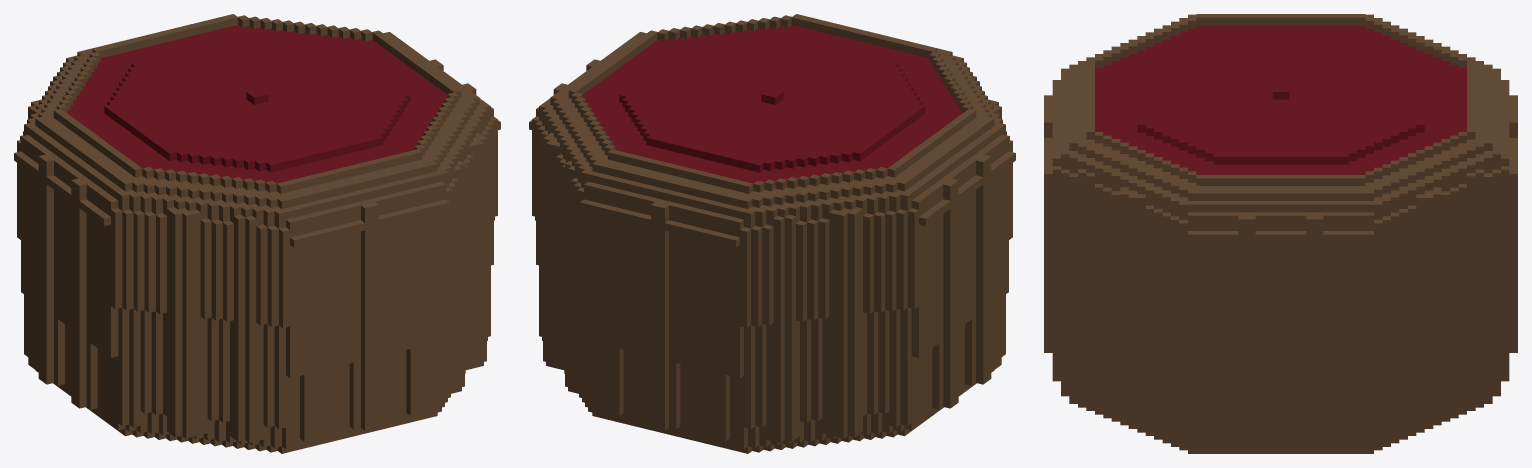
The model's file is hat_fur.glb.
3 renders of one model, left to right at view 1: azimuth 30°, elevation 25°; view 2: azimuth 150°, elevation 25°; view 3: azimuth 270°, elevation 25°, orthographic. The views are drawn at different scales.
Parts seen in each view (by area): view 1: hat_fur:compound; view 2: hat_fur:compound; view 3: hat_fur:compound.
Boxes of the visible parts, x1=… form: hat_fur:compound: x1=14, y1=14, x2=500, y2=453; hat_fur:compound: x1=529, y1=14, x2=1015, y2=453; hat_fur:compound: x1=1044, y1=14, x2=1517, y2=453.
Size of the model in its own units: 0.224 by 0.144 by 0.224.
